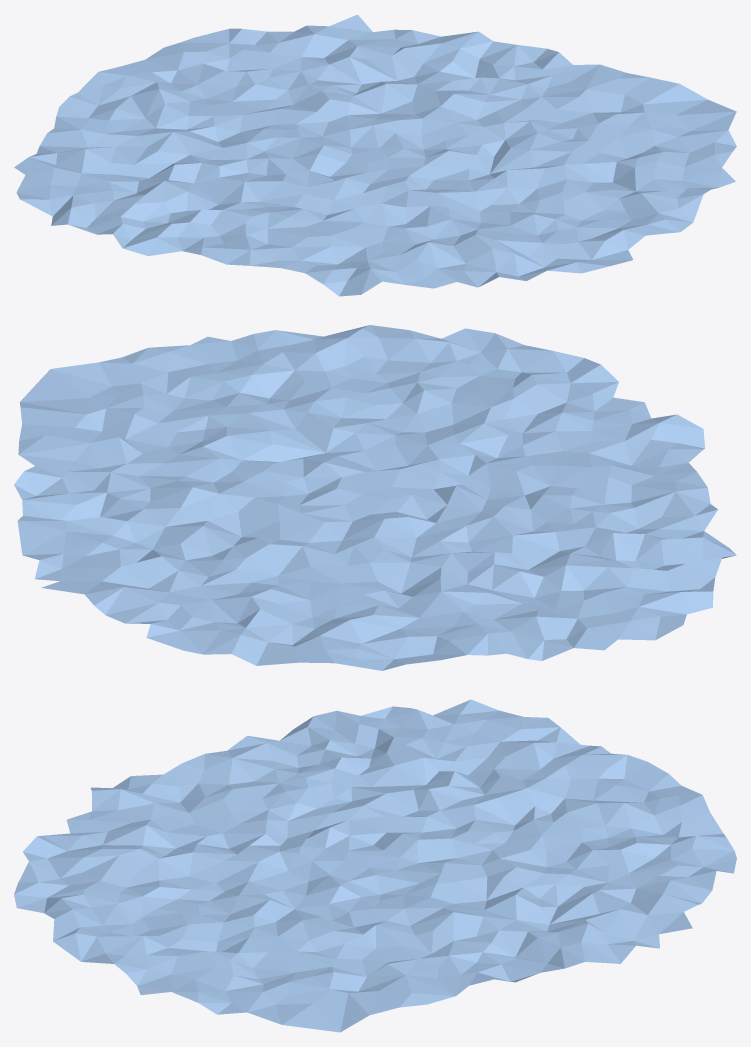
File: Lake.FBX
The picture shows the model from 3 angles, top to bottom: view 1: azimuth 30°, elevation 25°; view 2: azimuth 150°, elevation 25°; view 3: azimuth 270°, elevation 25°; orthographic projection. The views are drawn at different scales.
Visible parts, largest first — view 1: Lake; view 2: Lake; view 3: Lake.
Part boxes in pixels (x1,y1,x2,y2): Lake: (14,14,736,296); Lake: (14,325,736,670); Lake: (14,699,736,1032).
Size of the model in its own units: 2372 by 68.4 by 2229.
